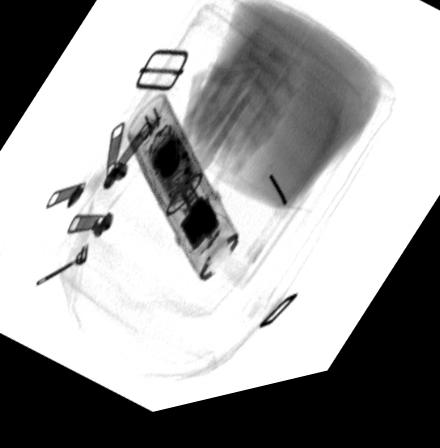Baton: (123, 96, 243, 293)
